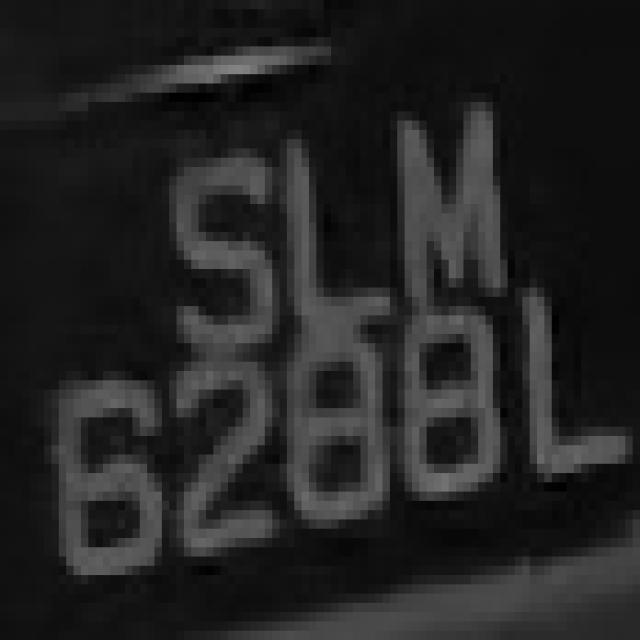2: (162, 343, 287, 594)
6: (37, 352, 169, 594)
8: (382, 306, 515, 547), (287, 315, 382, 566)
L: (258, 121, 382, 343), (522, 250, 633, 492)
M: (390, 84, 507, 306)
S: (162, 111, 265, 371)
